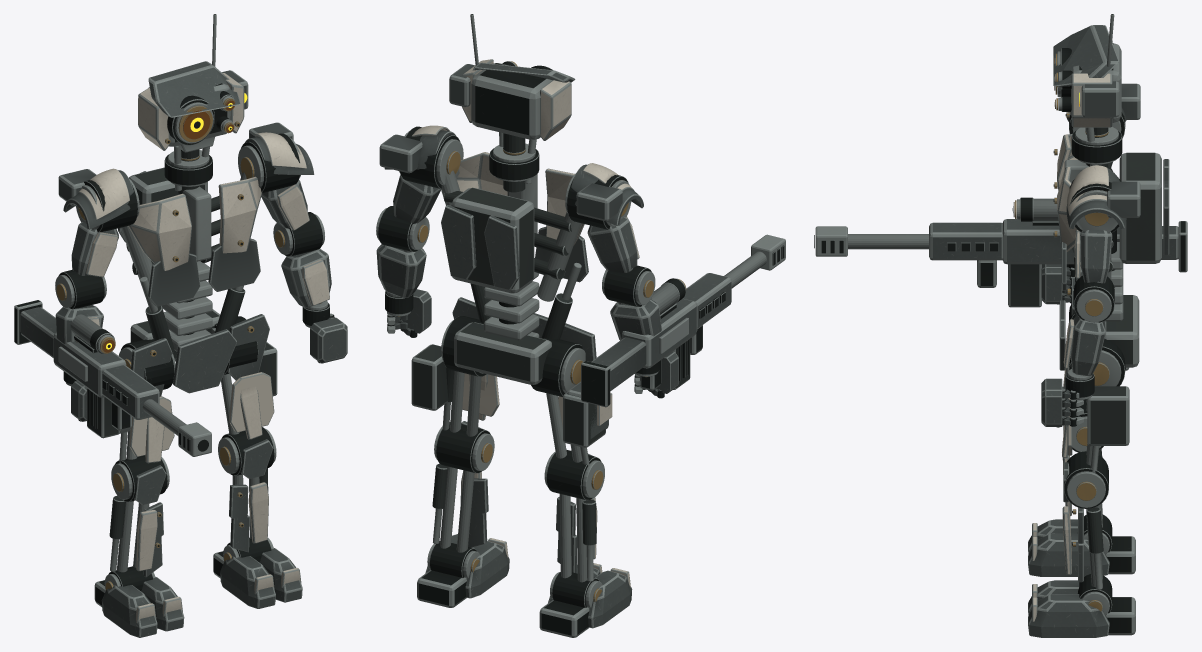
File: ranged-t2-tracker.glb
3 views of the same model, side by side, from view 1: azimuth 30°, elevation 25°; view 2: azimuth 150°, elevation 25°; view 3: azimuth 270°, elevation 25° (orthographic). The views are drawn at different scales.
Visible parts, largest first — view 1: chest__clay, pelvis__metal, weaponR__metal, chest__metal, pelvis__clay, head__clay, shoulderR__clay, weaponR__clay, shoulderL__clay, ankleL__clay, ankleR__clay, head__metal (+18 smaller); view 2: pelvis__metal, chest__metal, chest__clay, head__metal, weaponR__metal, kneeL__metal, kneeR__metal, shoulderR__clay, weaponR__clay, hipL__metal, shoulderL__clay, head__clay (+19 smaller); view 3: weaponR__metal, chest__metal, weaponR__clay, head__clay, shoulderL__clay, pelvis__metal, ankleL__clay, kneeL__metal, hipL__metal, ankleR__clay, chest__clay, elbowL__clay (+12 smaller).
Boxes of the visible parts, <box> form: chest__clay: <box>118,171,261,306</box>; pelvis__metal: <box>118,261,258,389</box>; weaponR__metal: <box>14,300,211,456</box>; chest__metal: <box>120,150,246,283</box>; pelvis__clay: <box>131,314,269,396</box>; head__clay: <box>138,61,248,150</box>; shoulderR__clay: <box>58,168,133,277</box>; weaponR__clay: <box>20,307,159,419</box>; shoulderL__clay: <box>245,122,314,230</box>; ankleL__clay: <box>220,548,302,608</box>; ankleR__clay: <box>101,577,184,637</box>; head__metal: <box>148,14,247,194</box>; pelvis__metal: <box>441,262,585,396</box>; chest__metal: <box>441,143,581,301</box>; chest__clay: <box>441,152,588,290</box>; head__metal: <box>470,14,552,192</box>; weaponR__metal: <box>581,234,785,407</box>; kneeL__metal: <box>432,422,494,552</box>; kneeR__metal: <box>544,449,604,582</box>; shoulderR__clay: <box>571,163,643,272</box>; weaponR__clay: <box>591,273,731,390</box>; hipL__metal: <box>411,344,481,436</box>; shoulderL__clay: <box>379,125,456,223</box>; head__clay: <box>449,59,575,140</box>; weaponR__metal: <box>814,197,1187,307</box>; chest__metal: <box>1053,127,1161,279</box>; weaponR__clay: <box>929,219,1178,264</box>; head__clay: <box>1053,25,1119,127</box>; shoulderL__clay: <box>1066,165,1140,283</box>; pelvis__metal: <box>1066,230,1139,386</box>; ankleL__clay: <box>1028,580,1109,637</box>; kneeL__metal: <box>1064,451,1108,589</box>; hipL__metal: <box>1086,386,1129,472</box>; ankleR__clay: <box>1028,519,1109,576</box>; chest__clay: <box>1057,134,1169,290</box>; elbowL__clay: <box>1063,315,1105,376</box>.
Bounding box in the file's own units: 2.33 × 4.69 × 2.65.
Materials: 12 (10 with a texture image).
